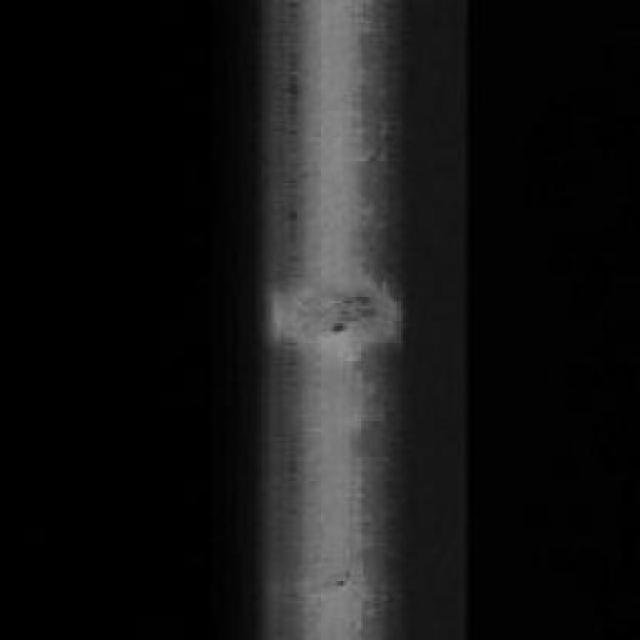non-defective: (221, 0, 475, 638)
